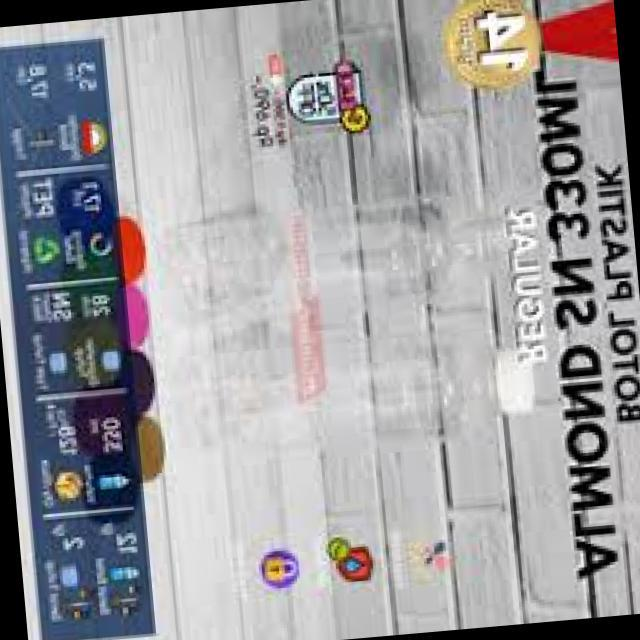good: (180, 318, 556, 469), (158, 183, 515, 329)
